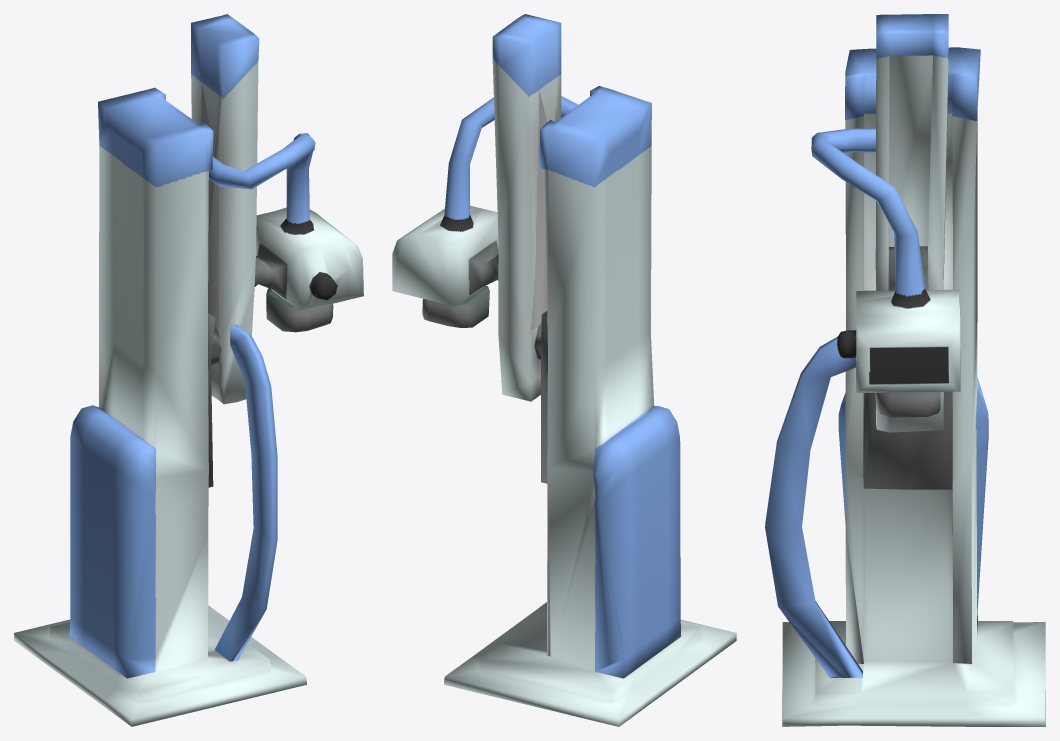
File: xray machine only.fbx
The picture shows the model from 3 angles, left to right: view 1: azimuth 30°, elevation 25°; view 2: azimuth 150°, elevation 25°; view 3: azimuth 270°, elevation 25°; orthographic projection. The views are drawn at different scales.
Visible parts, largest first — view 1: Plane.001; view 2: Plane.001; view 3: Plane.001.
Boxes of the visible parts, left/top/right/bottom form: Plane.001: left=14, top=14, right=363, bottom=726; Plane.001: left=392, top=14, right=736, bottom=726; Plane.001: left=765, top=14, right=1045, bottom=726.
Bounding box in the file's own units: 403 × 896 × 330.
Materials: 5 (5 with a texture image).
